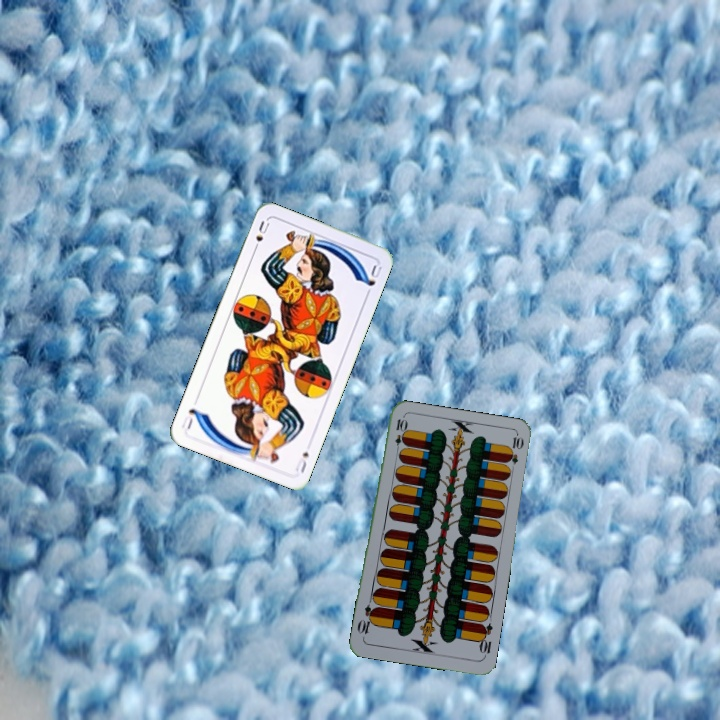E10: (475, 620, 495, 660), (391, 415, 408, 456)
SU: (249, 217, 272, 255), (291, 448, 311, 476)
